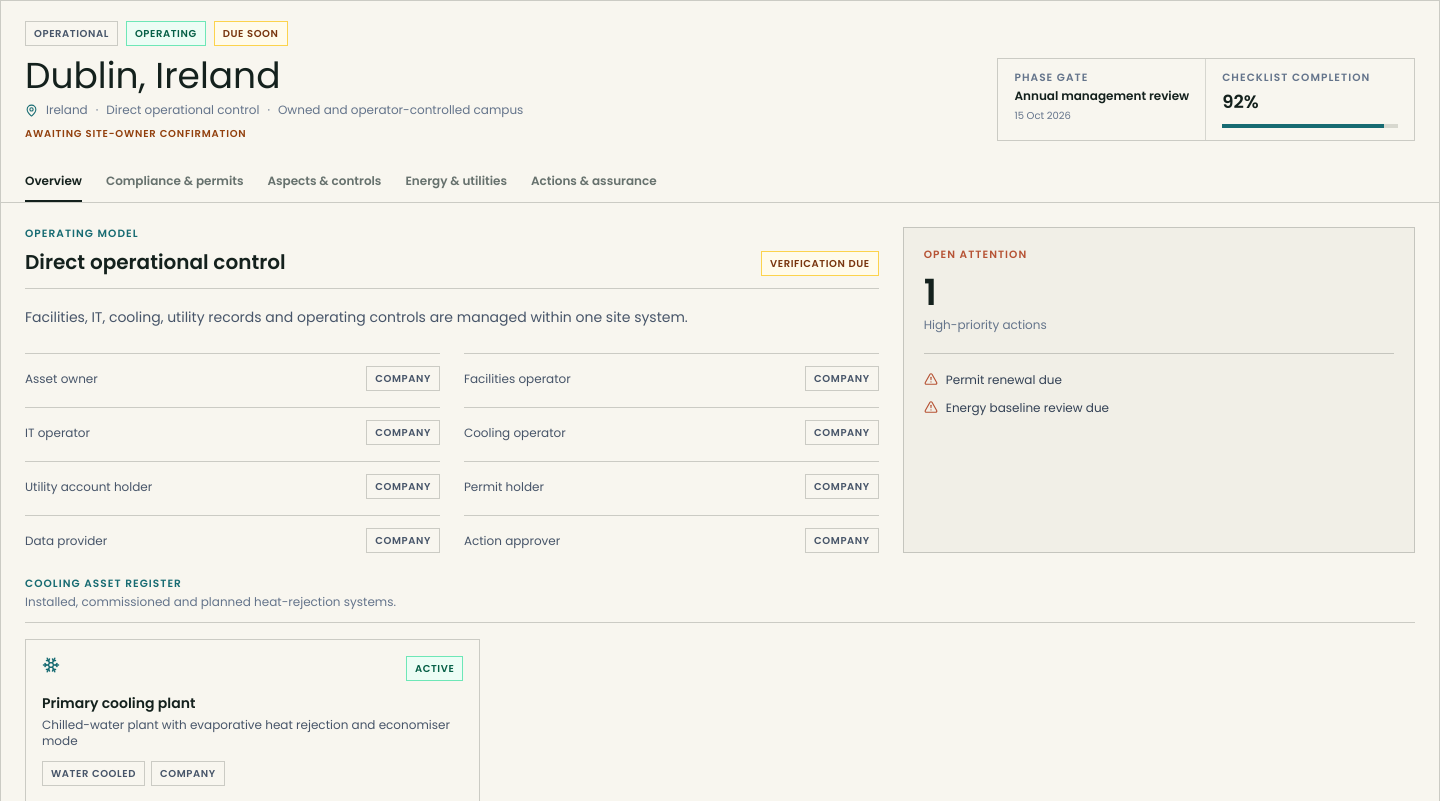
Test: EEMS portfolio components › moves from overview to the permit register inside a site workspace
Expected: the navigation bar named "Site workspace sections" is shown, [25, 161, 657, 202]
Expected: the heading "Direct operational control" is shown, [25, 248, 286, 276]
Click the tab "Compliance & permits" at point(175, 182), box [106, 161, 243, 202]
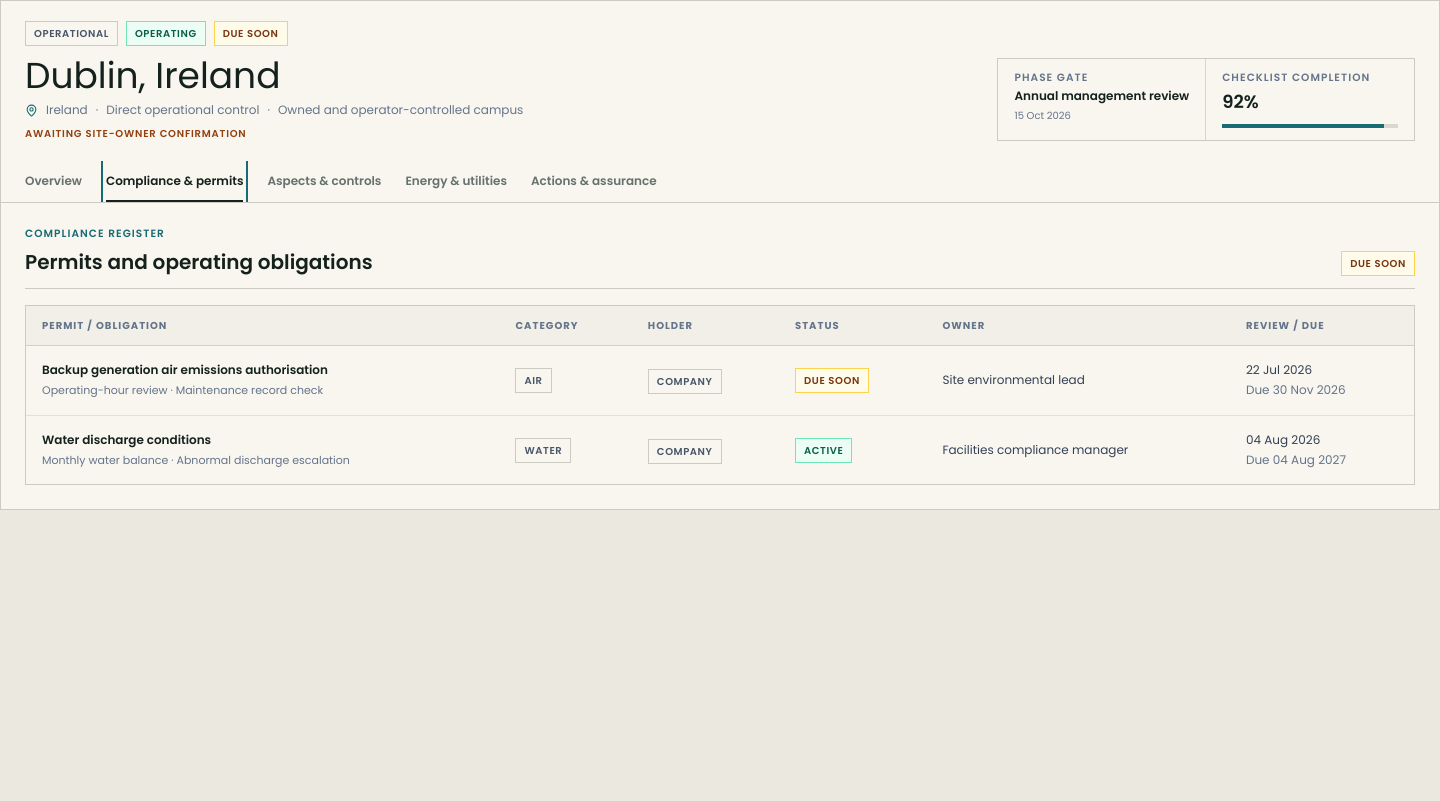
Expected: the panel named "Compliance & permits" is shown, [25, 227, 1415, 485]
Expected: the heading "Permits and operating obligations" is shown, [25, 248, 372, 276]
Expected: the text "Backup generation air emissions authorisation" is shown, [42, 361, 328, 378]
